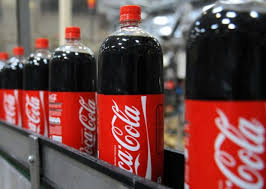coke-bottle-700ml: (96, 2, 166, 180), (48, 21, 96, 143)
